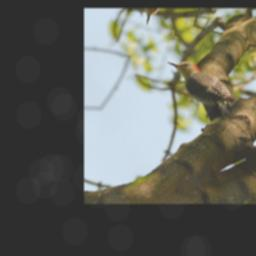Woodpecker: (167, 44, 242, 131)
